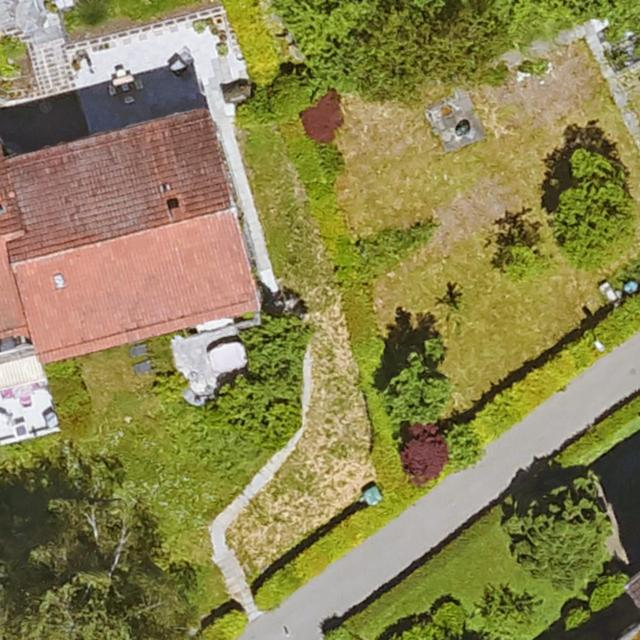tree: (0, 462, 186, 640), (502, 479, 610, 573), (555, 151, 632, 262)
